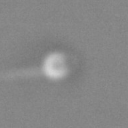normal: (1, 61, 44, 86)
